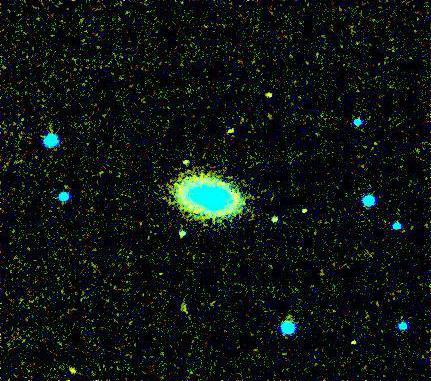star: (57, 356, 87, 381)
